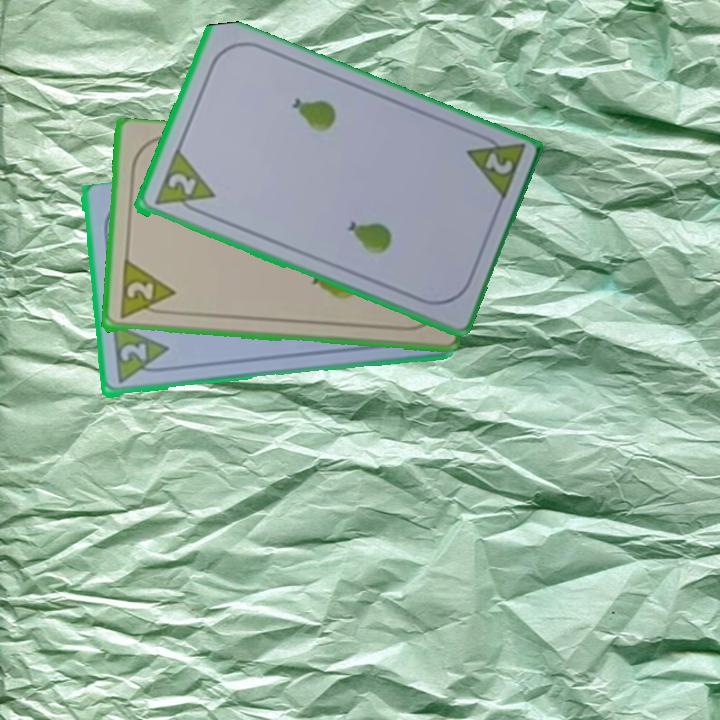2p: (108, 323, 172, 387), (164, 169, 199, 199), (480, 149, 515, 178), (122, 279, 156, 305)
